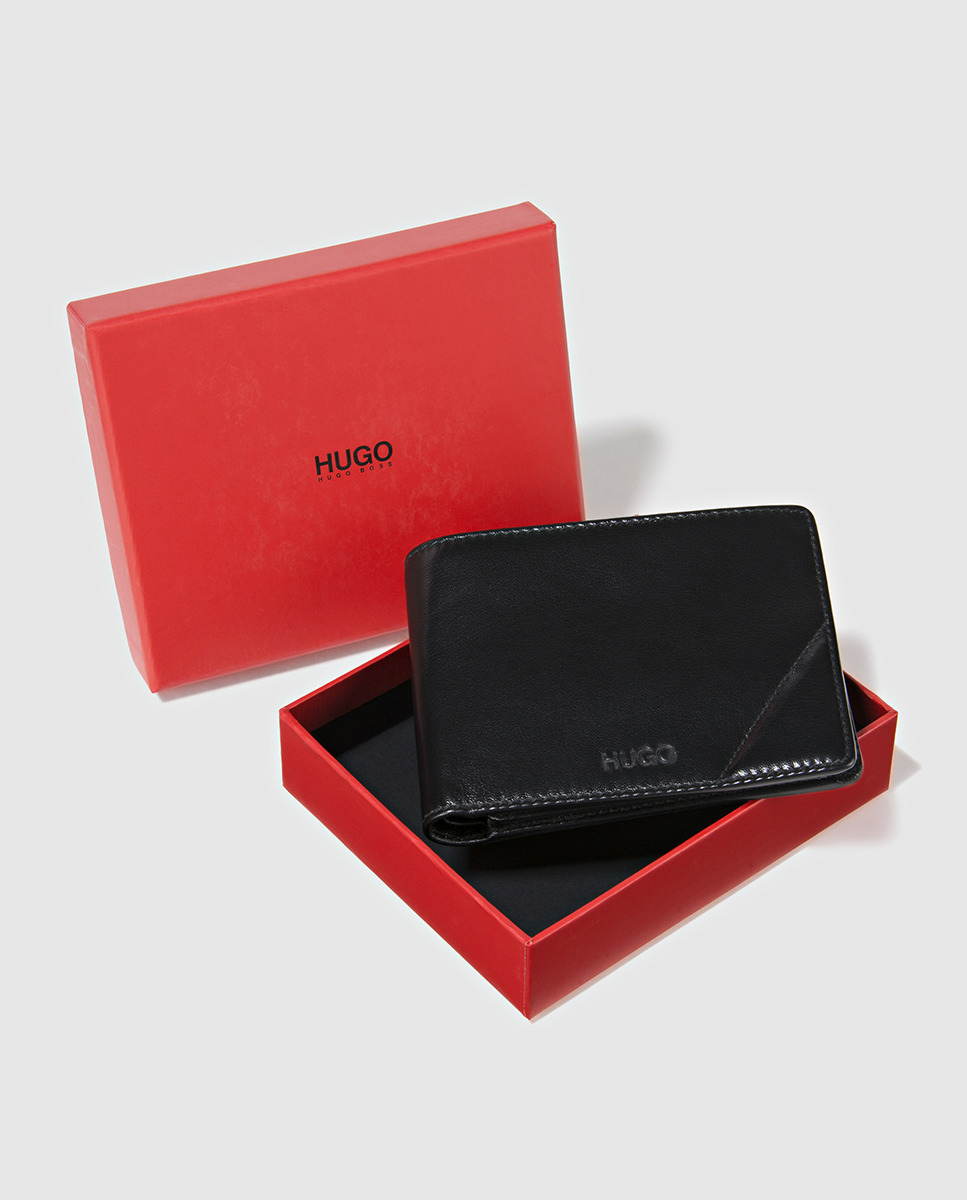monedero: (406, 505, 865, 842)
